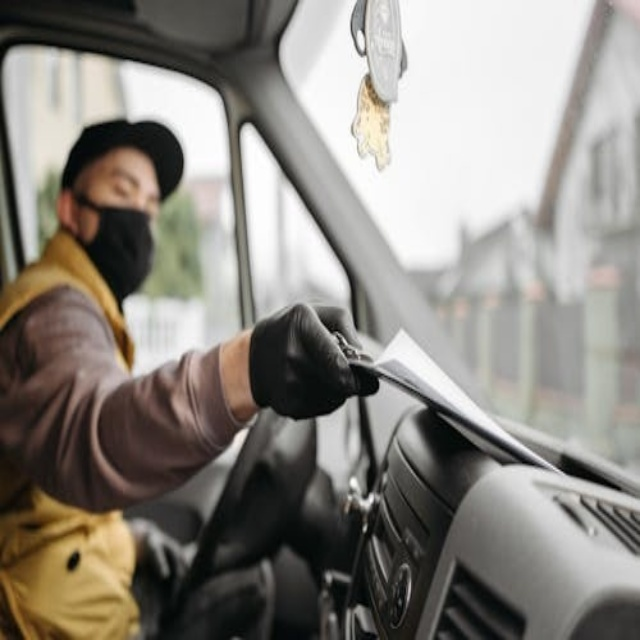Guantes: (247, 301, 380, 420), (125, 519, 193, 638)
Mascara: (81, 201, 155, 303)
Sin_gafas: (93, 159, 159, 217)
